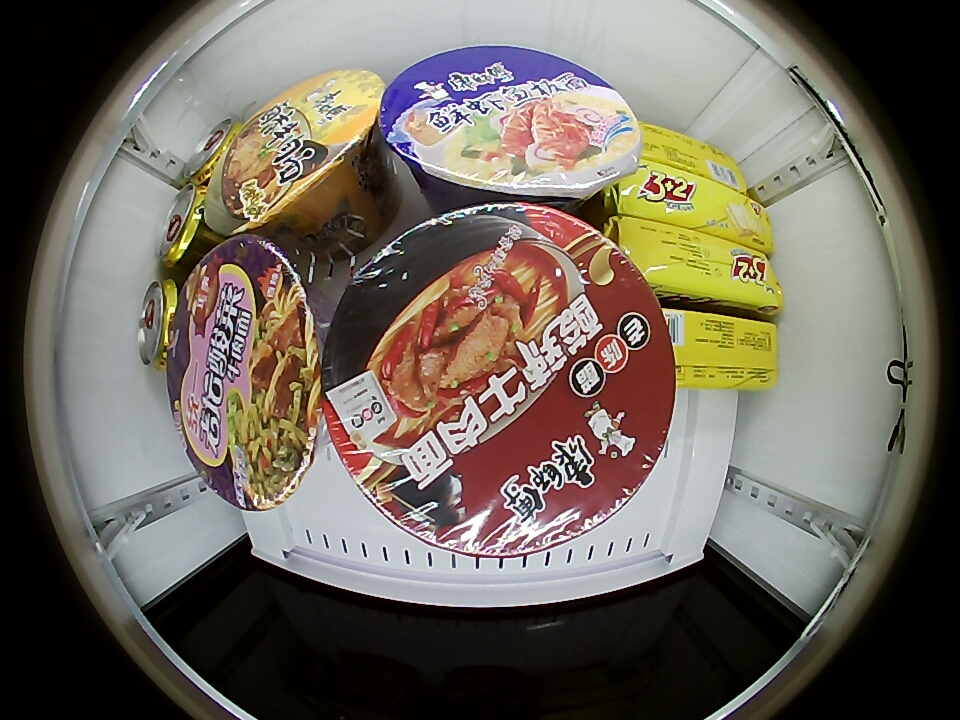3+2-2: (613, 219, 780, 312), (616, 163, 772, 247), (669, 311, 779, 391), (636, 123, 747, 190)
dongpeng: (157, 183, 215, 270), (137, 278, 183, 369), (183, 118, 239, 186)
laotansuancai: (168, 236, 326, 513)
luxiangniurou: (206, 68, 384, 234)
suanlaniurou: (319, 204, 676, 559)
xianxiayuban: (378, 46, 641, 204)
